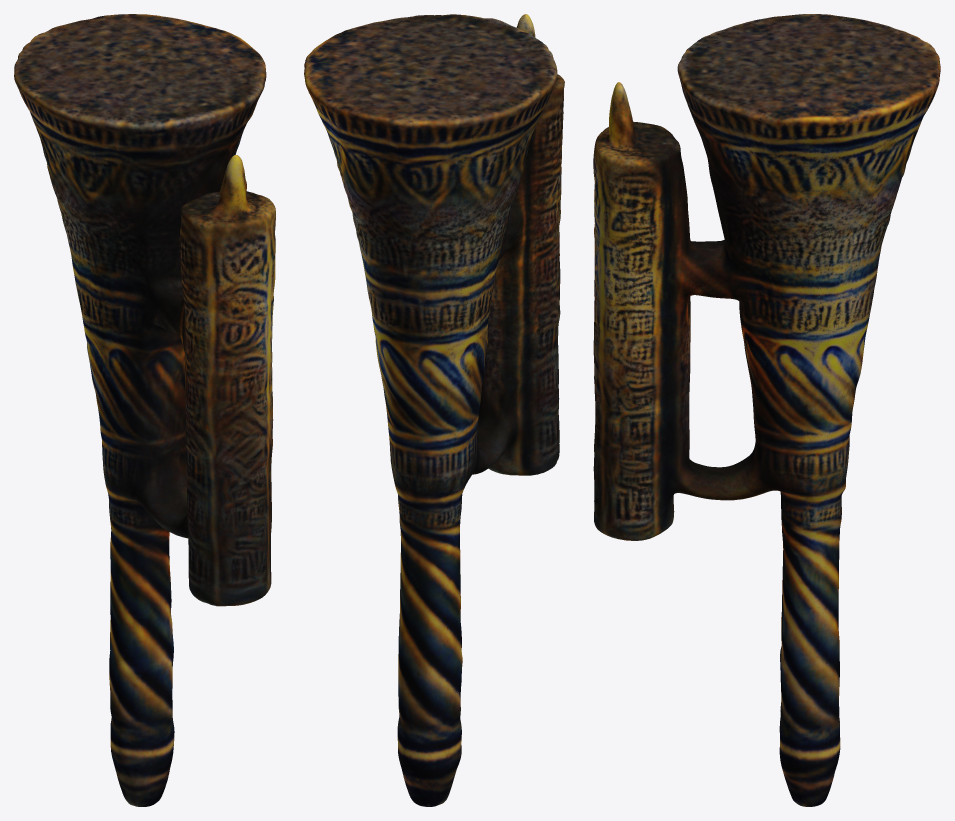
Rendered from 9c5b003405a1_Egyptian_wall_torch.fbx.
The picture shows the model from 3 angles, left to right: view 1: azimuth 30°, elevation 25°; view 2: azimuth 150°, elevation 25°; view 3: azimuth 270°, elevation 25°; orthographic projection.
Visible parts, largest first — view 1: high_poly; view 2: high_poly; view 3: high_poly.
Part boxes in pixels (x1,y1,x2,y2): high_poly: (14,14,275,806); high_poly: (304,14,564,806); high_poly: (593,14,940,806).
Size of the model in its own units: 30.71 by 100 by 42.57.
